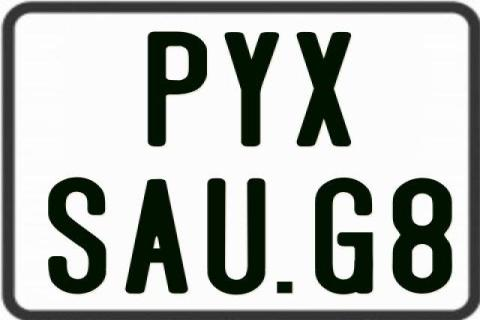0: (390, 178, 455, 296)
A: (123, 177, 192, 293)
G: (313, 178, 374, 298)
P: (145, 30, 206, 146)
S: (45, 177, 109, 299)
U: (207, 177, 267, 295)
X: (296, 32, 350, 151)
Y: (222, 30, 281, 144)
